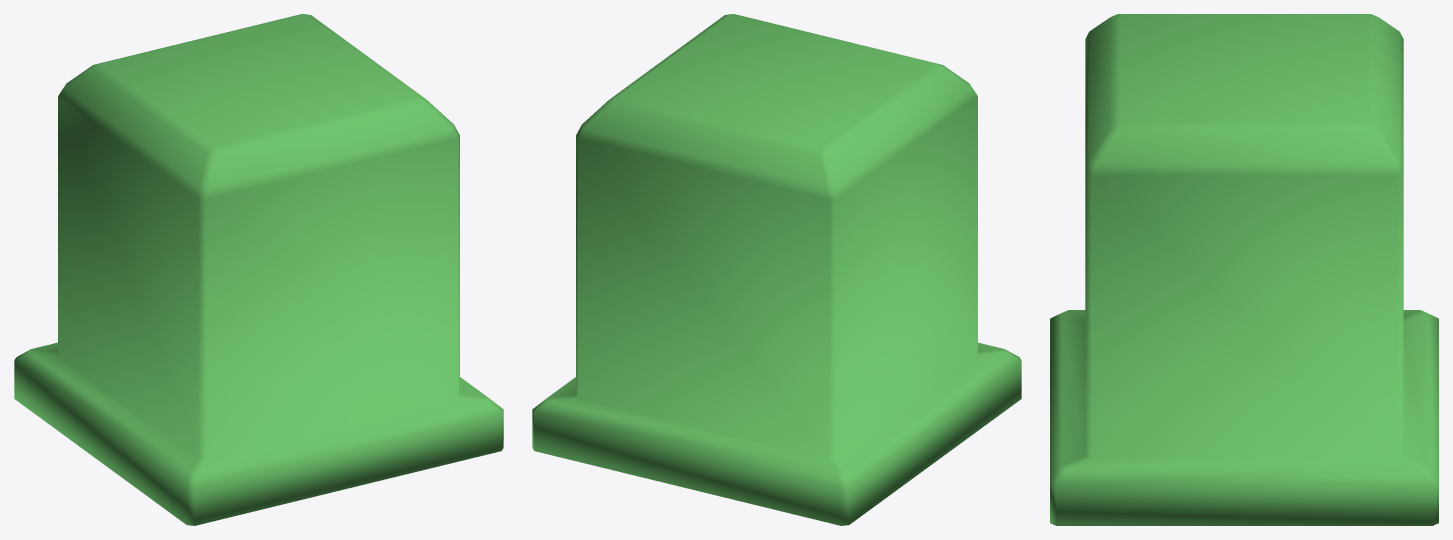
The model's file is plinth.glb.
The picture shows the model from 3 angles, left to right: view 1: azimuth 30°, elevation 25°; view 2: azimuth 150°, elevation 25°; view 3: azimuth 270°, elevation 25°; orthographic projection. The views are drawn at different scales.
Visible parts, largest first — view 1: plinth; view 2: plinth; view 3: plinth.
Part boxes in pixels (left/top/right/bottom): plinth: left=14, top=14, right=503, bottom=525; plinth: left=532, top=14, right=1021, bottom=525; plinth: left=1050, top=14, right=1438, bottom=525.
Bounding box in the file's own units: 11.36 × 11.74 × 11.07.
